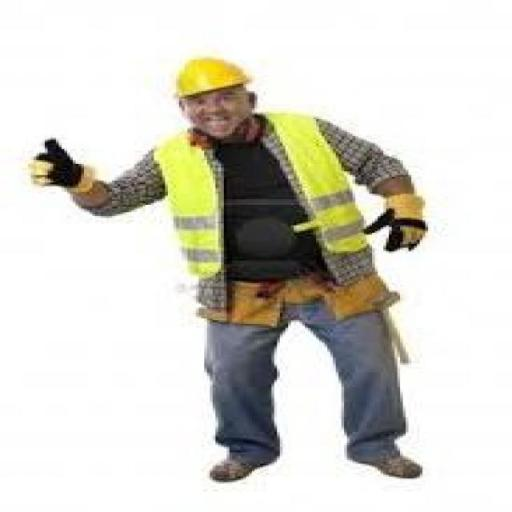helmet: (151, 45, 266, 108)
vest: (142, 113, 392, 298)
